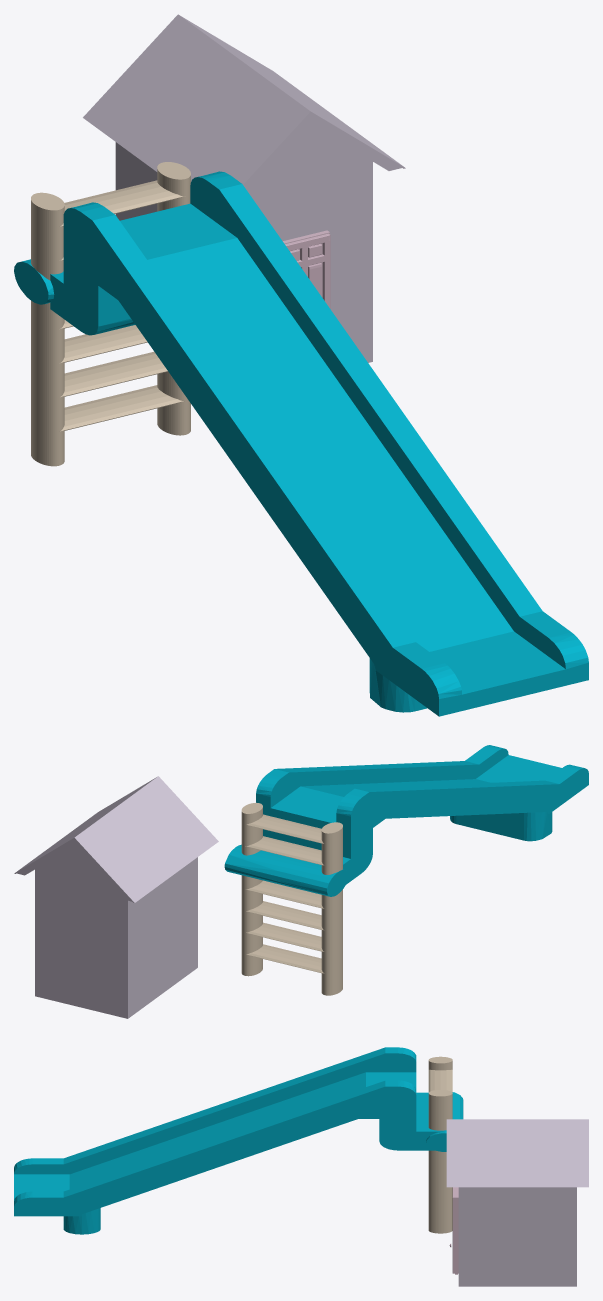
File: maya playground.glb
3 renders of one model, top to bottom at view 1: azimuth 30°, elevation 25°; view 2: azimuth 150°, elevation 25°; view 3: azimuth 270°, elevation 25°, orthographic. The views are drawn at different scales.
Visible parts, largest first — view 1: Mesh_Mesh_head_geo.001_lambert2SG.001; view 2: Mesh_Mesh_head_geo.001_lambert2SG.001; view 3: Mesh_Mesh_head_geo.001_lambert2SG.001.
Boxes of the visible parts, <box> form: Mesh_Mesh_head_geo.001_lambert2SG.001: <box>14,14,588,716</box>; Mesh_Mesh_head_geo.001_lambert2SG.001: <box>14,745,588,1018</box>; Mesh_Mesh_head_geo.001_lambert2SG.001: <box>14,1047,588,1286</box>.
Size of the model in its own units: 0.077 by 0.054 by 0.19.
